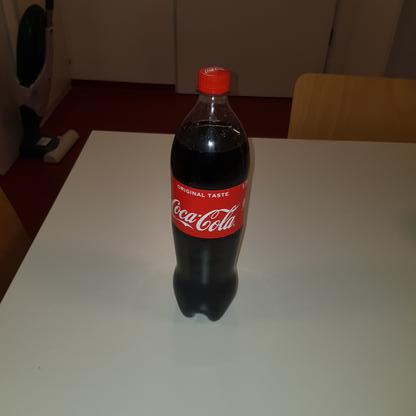coca-cola: (168, 65, 257, 323)
